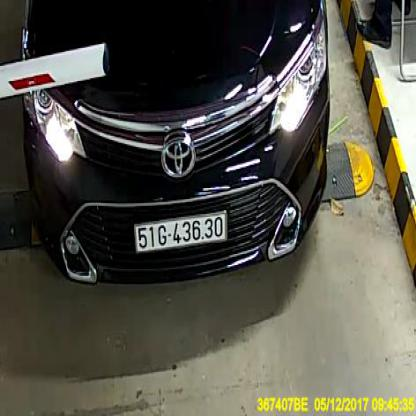biensoxe: (134, 211, 227, 252)
